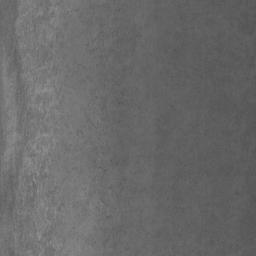Silk spot: (0, 0, 146, 256), (151, 0, 256, 256), (156, 101, 217, 152)
